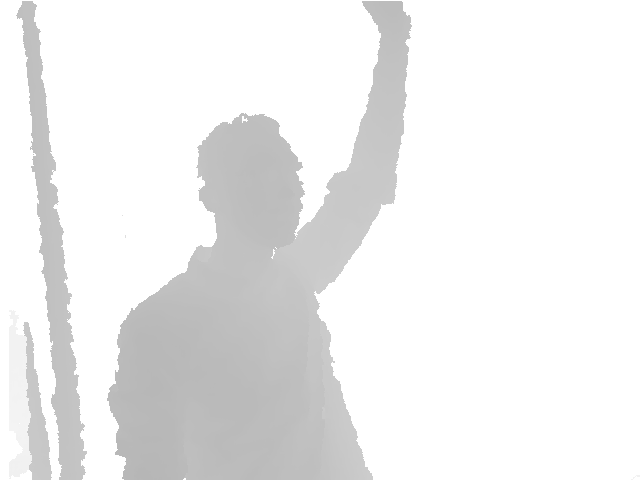hand: (363, 1, 413, 32)
head: (196, 113, 305, 250)
person: (107, 1, 414, 480)
